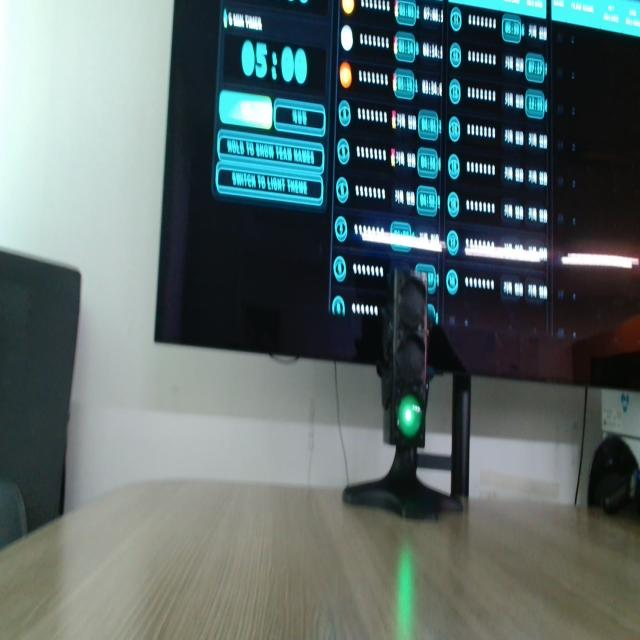green_light: (398, 395, 422, 438)
